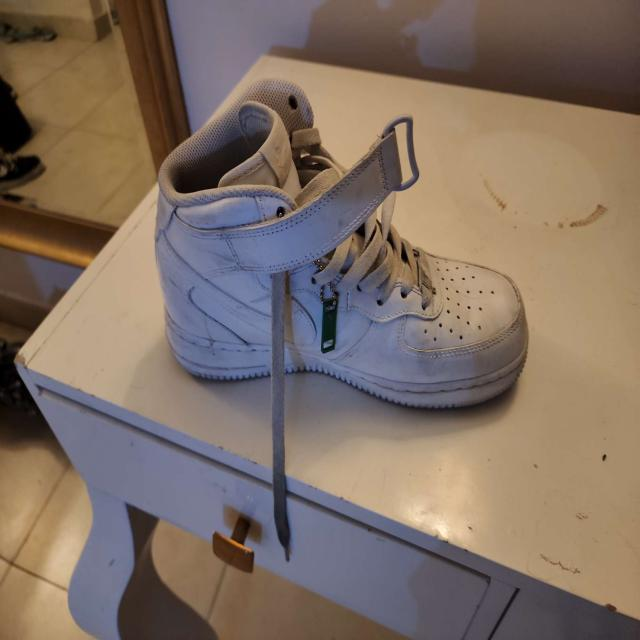shoes: (152, 76, 530, 411)
